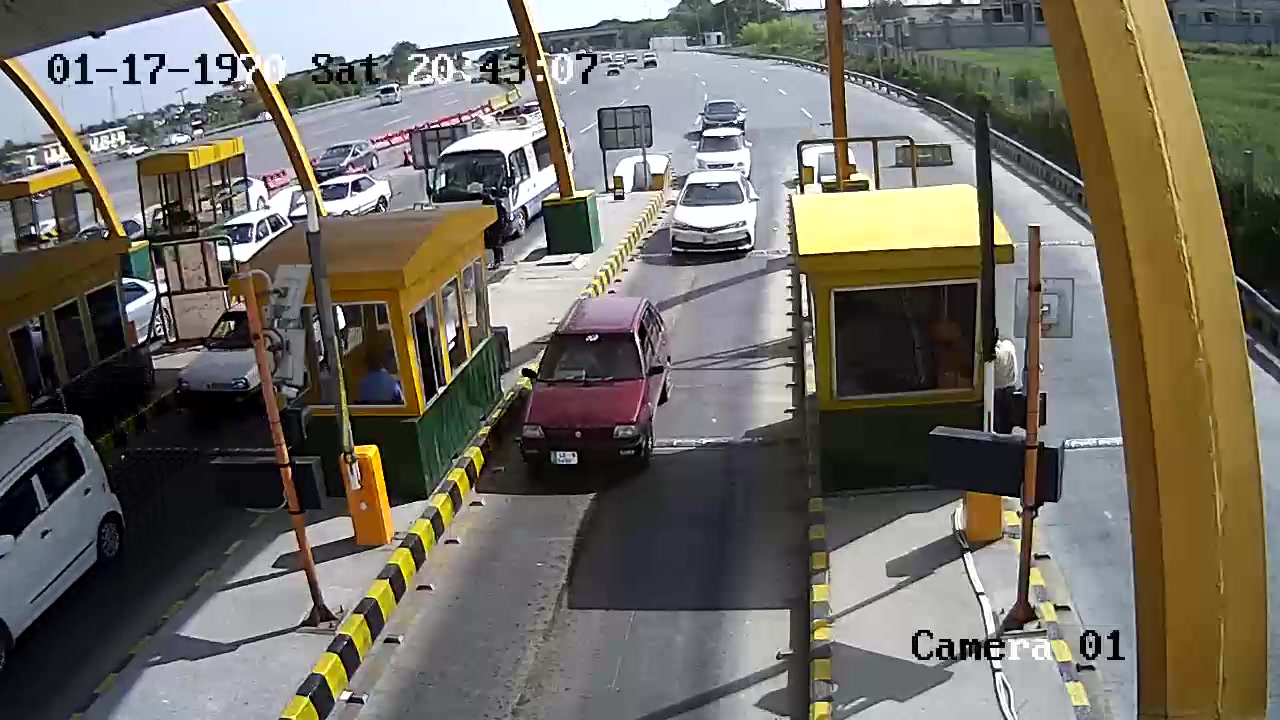F1: (510, 288, 688, 492)
